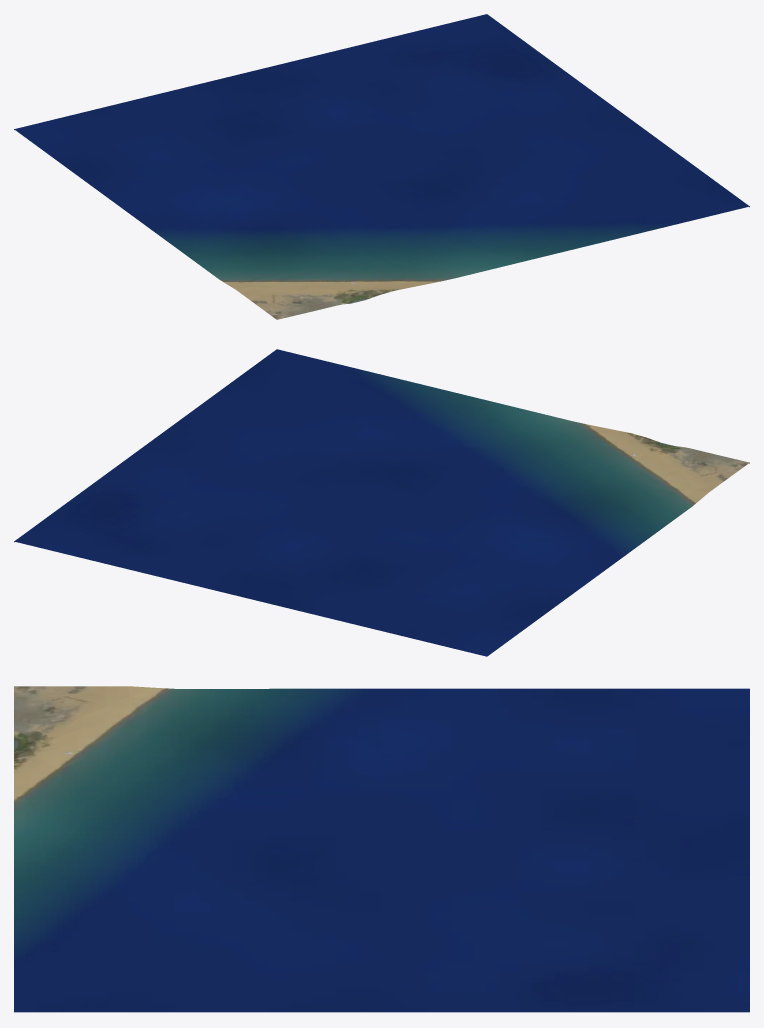
The picture shows the model from 3 angles, top to bottom: view 1: azimuth 30°, elevation 25°; view 2: azimuth 150°, elevation 25°; view 3: azimuth 270°, elevation 25°; orthographic projection. The views are drawn at different scales.
Size of the model in its own units: 500 by 3.56 by 481.
1 material, 1 textured.
